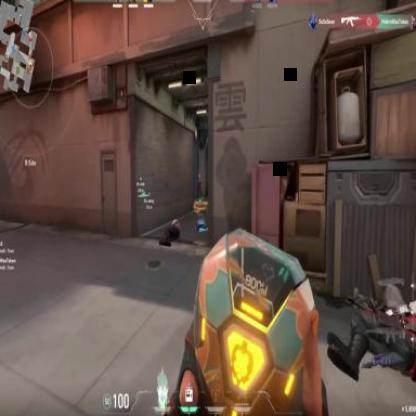enemy: (197, 172, 202, 202)
enemy_head: (198, 173, 201, 179)
